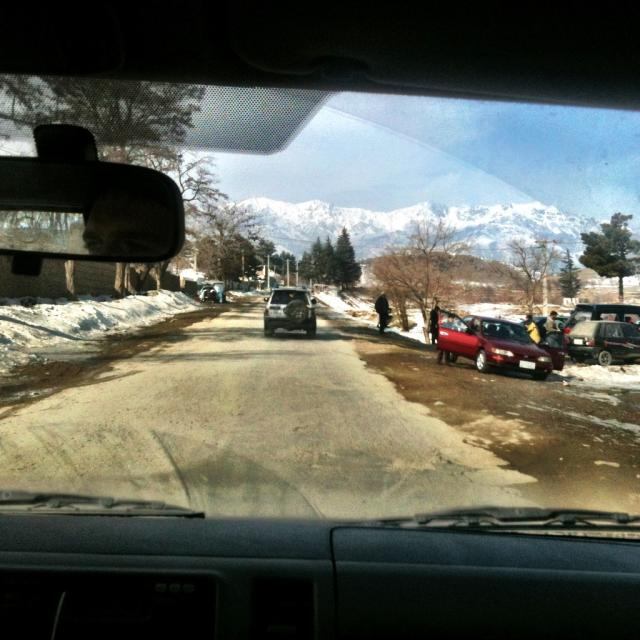car: (437, 310, 564, 380), (266, 283, 314, 335)
